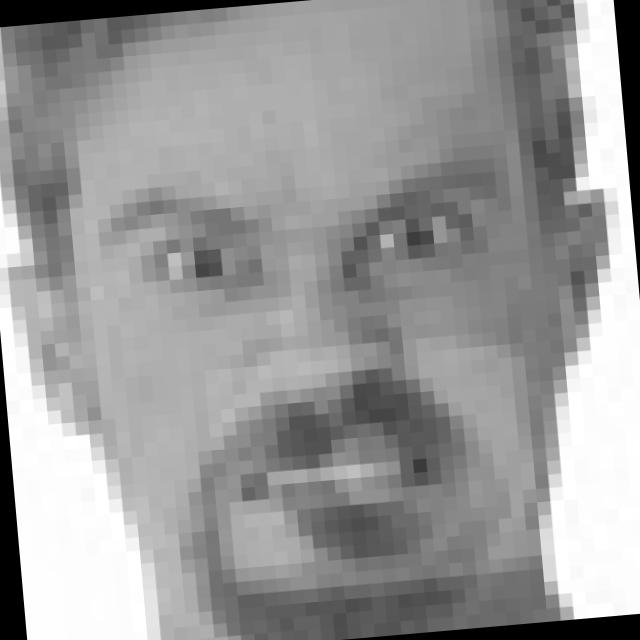angry: (90, 151, 544, 554)
